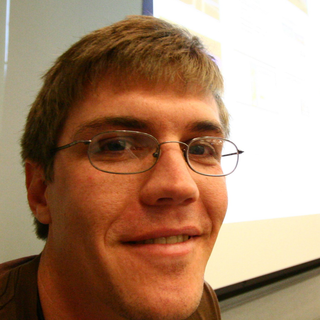eye: (92, 134, 141, 161), (182, 136, 219, 164)
